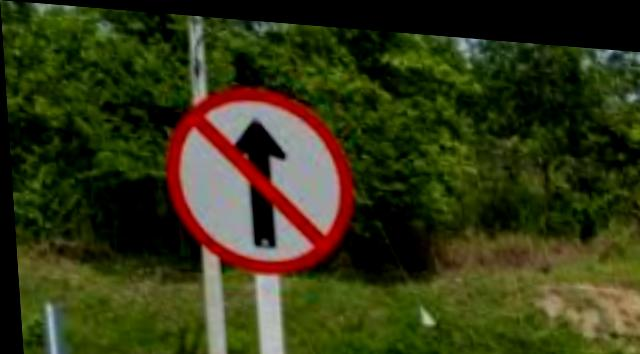not_go_straight: (161, 70, 354, 272)
